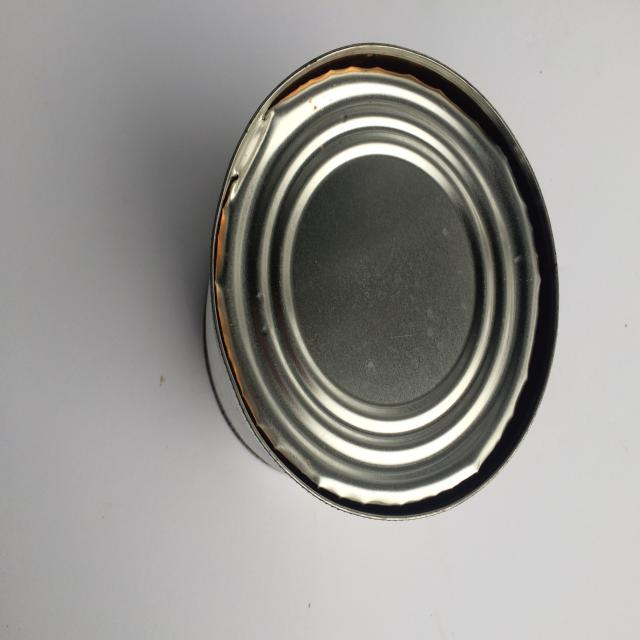metal: (203, 42, 560, 521)
